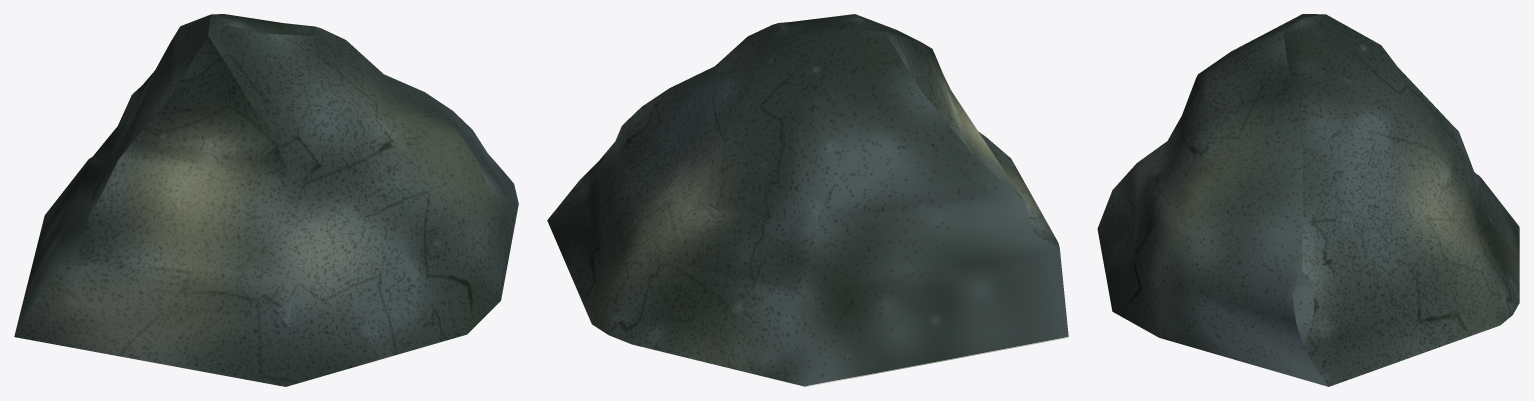
Rendered from Rock3M.fbx.
3 views of the same model, side by side, from view 1: azimuth 30°, elevation 25°; view 2: azimuth 150°, elevation 25°; view 3: azimuth 270°, elevation 25° (orthographic). The views are drawn at different scales.
Visible parts, largest first — view 1: pCone1; view 2: pCone1; view 3: pCone1.
Part boxes in pixels (bbox=[...]): pCone1: bbox=[14, 14, 518, 386]; pCone1: bbox=[547, 14, 1068, 386]; pCone1: bbox=[1097, 14, 1519, 386].
Size of the model in its own units: 173 by 85.98 by 137.
